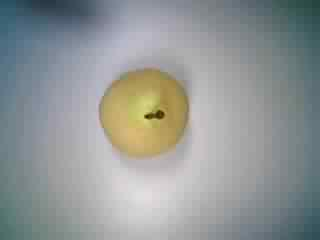pear: (88, 64, 198, 167)
